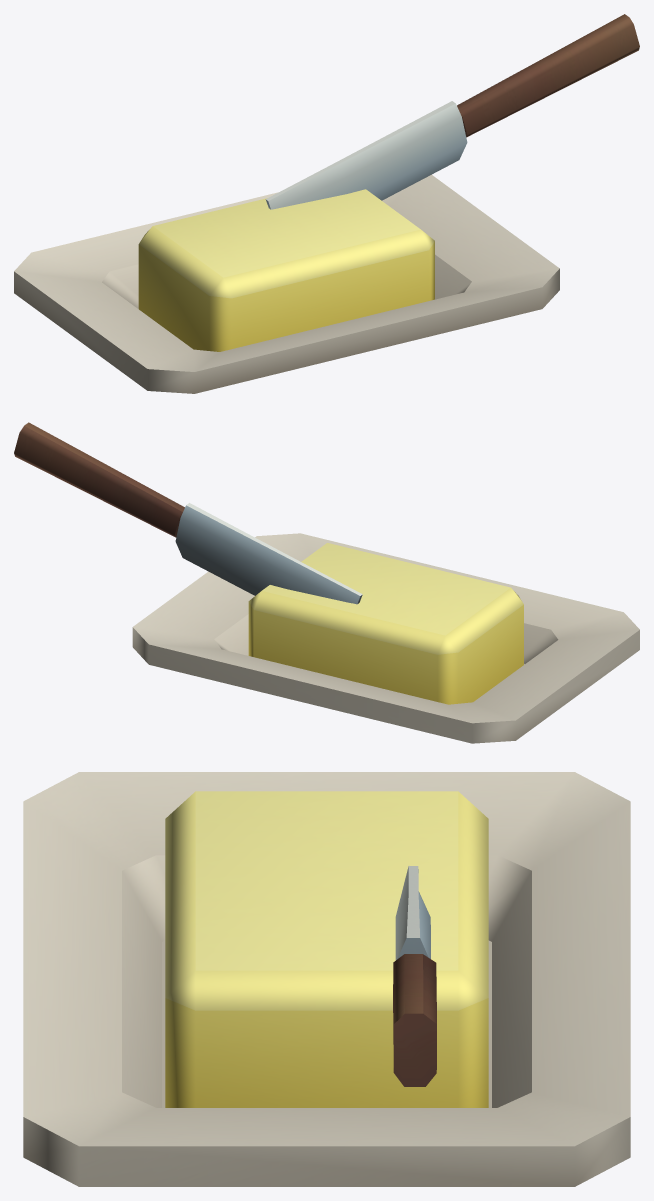
The model's file is butter_plate.fbx.
3 renders of one model, top to bottom at view 1: azimuth 30°, elevation 25°; view 2: azimuth 150°, elevation 25°; view 3: azimuth 270°, elevation 25°, orthographic. The views are drawn at different scales.
Visible parts, largest first — view 1: butter_plate; view 2: butter_plate; view 3: butter_plate.
Part boxes in pixels (<box>): butter_plate: <box>14,14,639,393</box>; butter_plate: <box>14,422,639,743</box>; butter_plate: <box>23,772,630,1186</box>.
Size of the model in its own units: 67.31 by 21.99 by 32.88.
